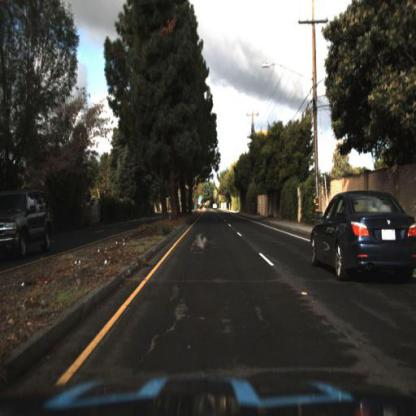car: (307, 188, 415, 284), (1, 189, 57, 262)
